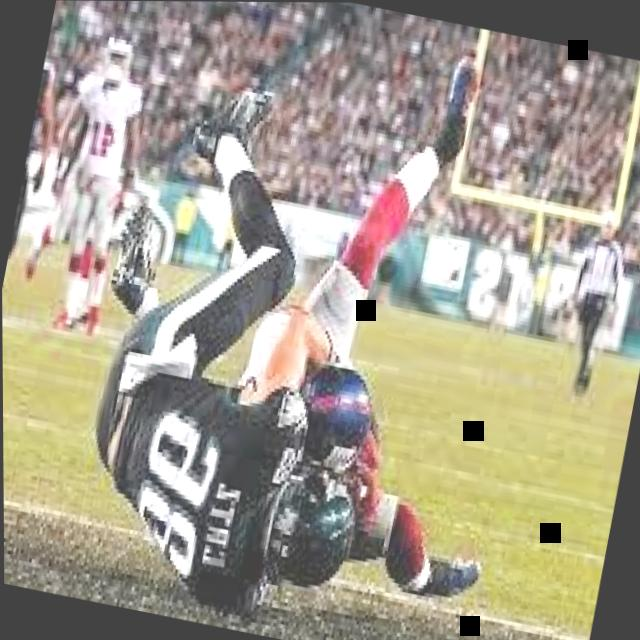Fall-Detected: (56, 2, 588, 640)
